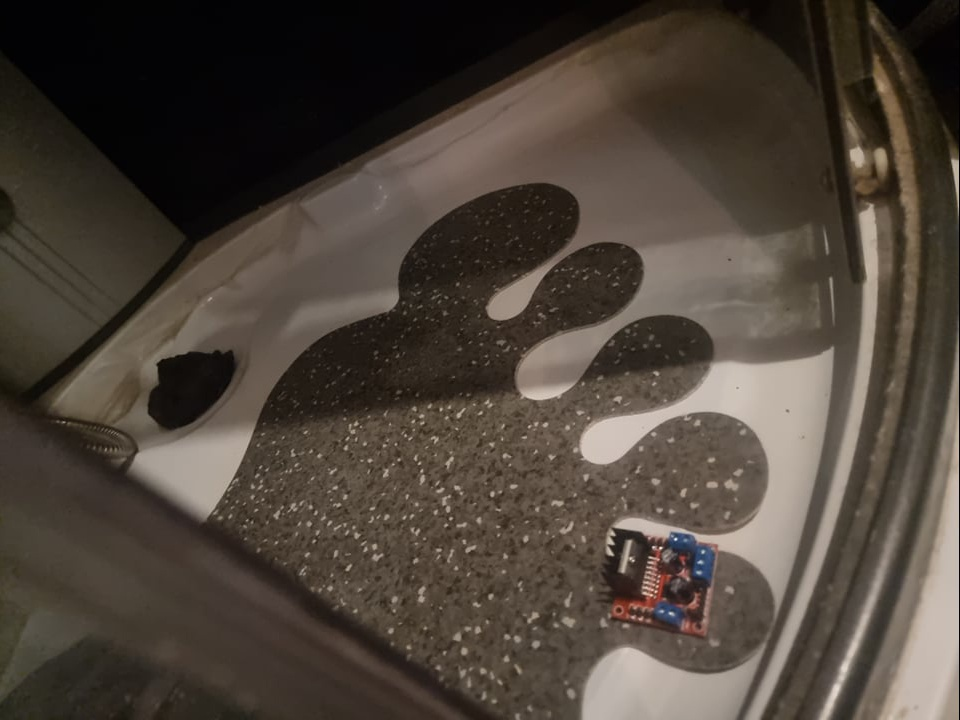MOTOR: (603, 527, 723, 641)
